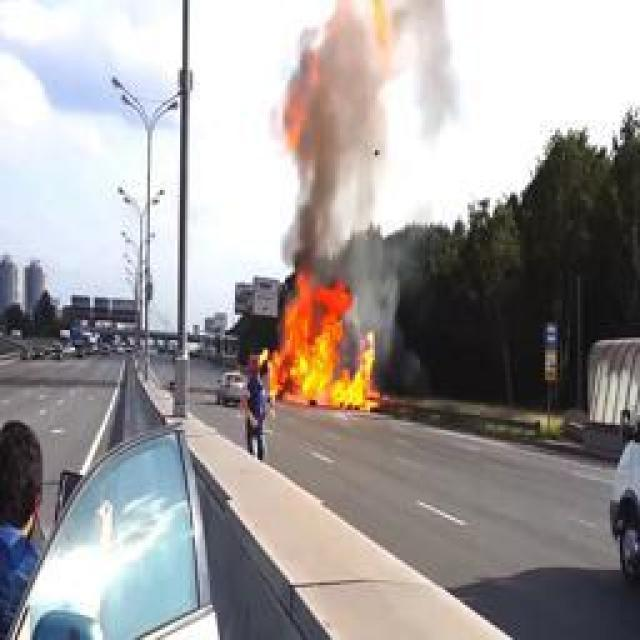Fire: (261, 271, 379, 414)
